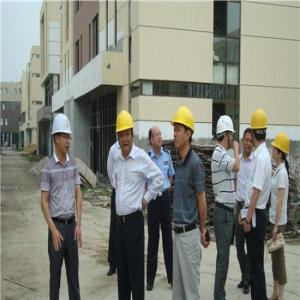none: (148, 123, 164, 152), (242, 127, 255, 157)
white: (51, 112, 73, 160), (216, 114, 237, 154)
yellow: (171, 108, 196, 155), (116, 110, 136, 154), (270, 130, 292, 167), (251, 109, 269, 146)
